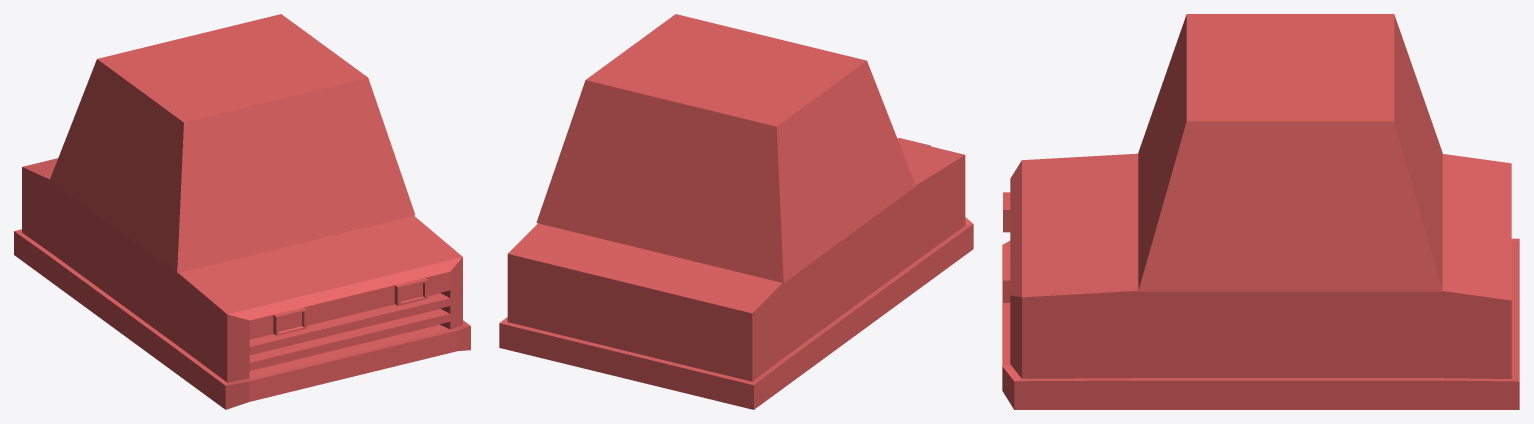
3 views of the same model, side by side, from view 1: azimuth 30°, elevation 25°; view 2: azimuth 150°, elevation 25°; view 3: azimuth 270°, elevation 25° (orthographic). The views are drawn at different scales.
Parts seen in each view (by area): view 1: pCube1; view 2: pCube1; view 3: pCube1.
Boxes of the visible parts, x1,y1,x2,y2 form: pCube1: [14, 14, 470, 409]; pCube1: [499, 14, 973, 409]; pCube1: [1002, 14, 1519, 409].
Size of the model in its own units: 4.57 by 4.04 by 6.99.
